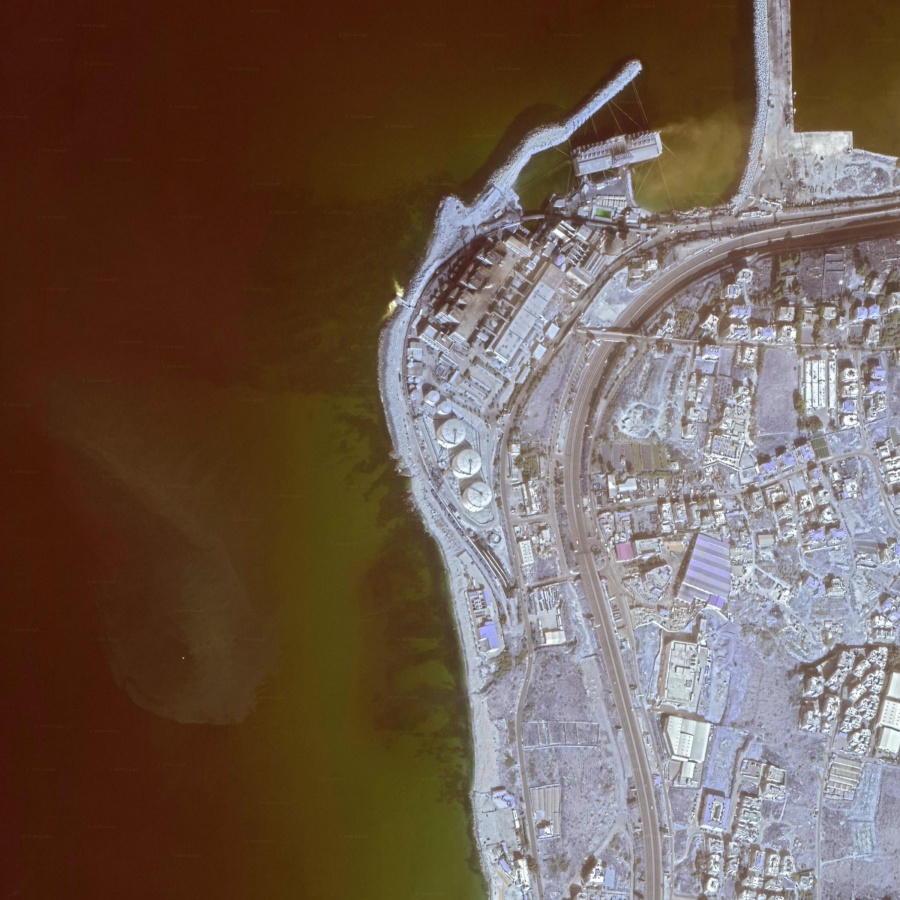PowerPlant: (370, 118, 666, 516)
